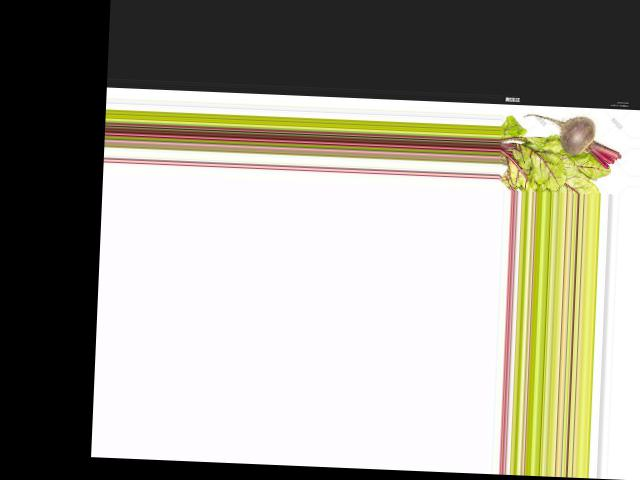beet: (522, 113, 623, 169)
